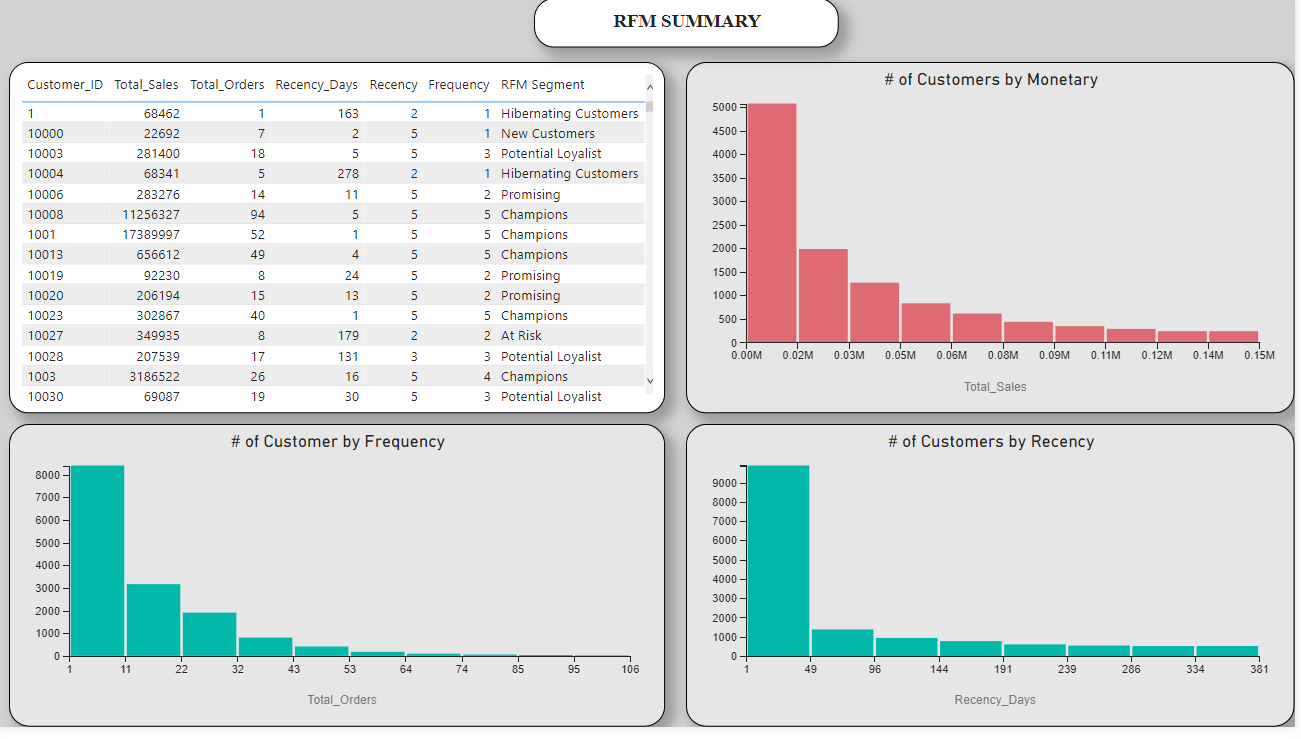

The dashboard page shown, as its layout file describes it:
{"tool":"powerbi","page":{"name":"RFM Summary","canvas":[1280,720],"ordinal":0},"visuals":[{"type":"tableEx","fields":{"Values":["RFM.Customer_ID","Sum(RFM.Total_Sales)","Sum(RFM.Total_Orders)","Sum(RFM.Recency_Days)","Sum(RFM.Recency)","Sum(RFM.Frequency)","RFM.RFM Segment"]},"box":[9.5,63,647.7,347],"z":0},{"type":"Histogram1445664487616","title":"# of Customers by Monetary","fields":{"Values":["RFM.Total_Sales"],"Frequency":["CountNonNull(RFM.Customer_ID)"]},"box":[678.6,63,601.4,347],"z":1},{"type":"Histogram1445664487616","title":"# of Customers by Recency","fields":{"Values":["RFM.Recency_Days"],"Frequency":["CountNonNull(RFM.Customer_ID)"]},"box":[678.6,420.7,601.4,299.5],"z":2},{"type":"Histogram1445664487616","title":"# of Customer by  Frequency","fields":{"Values":["RFM.Total_Orders"],"Frequency":["CountNonNull(RFM.Customer_ID)"]},"box":[10,421,648,299],"z":3},{"type":"textbox","box":[528.9,0,300.7,48.7],"z":4}]}

Visuals, with their boxes in screenshot pixels (x1, y1, x2, y2), scaled from the page's 1280x720 canvas onto the 1301x739 screenshot:
tableEx - RFM.Customer_ID x Sum(RFM.Total_Sales): select_region(10, 65, 668, 421)
"# of Customers by Monetary" Histogram1445664487616: select_region(690, 65, 1300, 421)
"# of Customers by Recency" Histogram1445664487616: select_region(690, 432, 1300, 738)
"# of Customer by  Frequency" Histogram1445664487616: select_region(10, 432, 669, 738)
textbox: select_region(538, 0, 843, 50)
